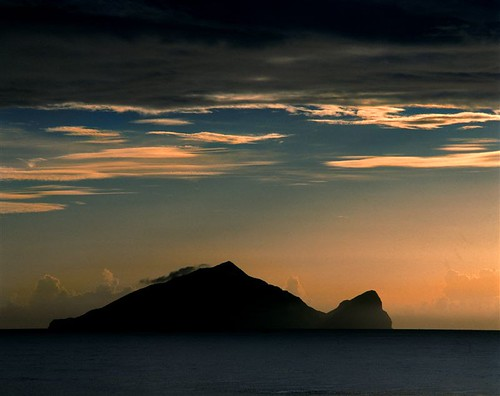turtleIsland: (37, 262, 395, 329)
